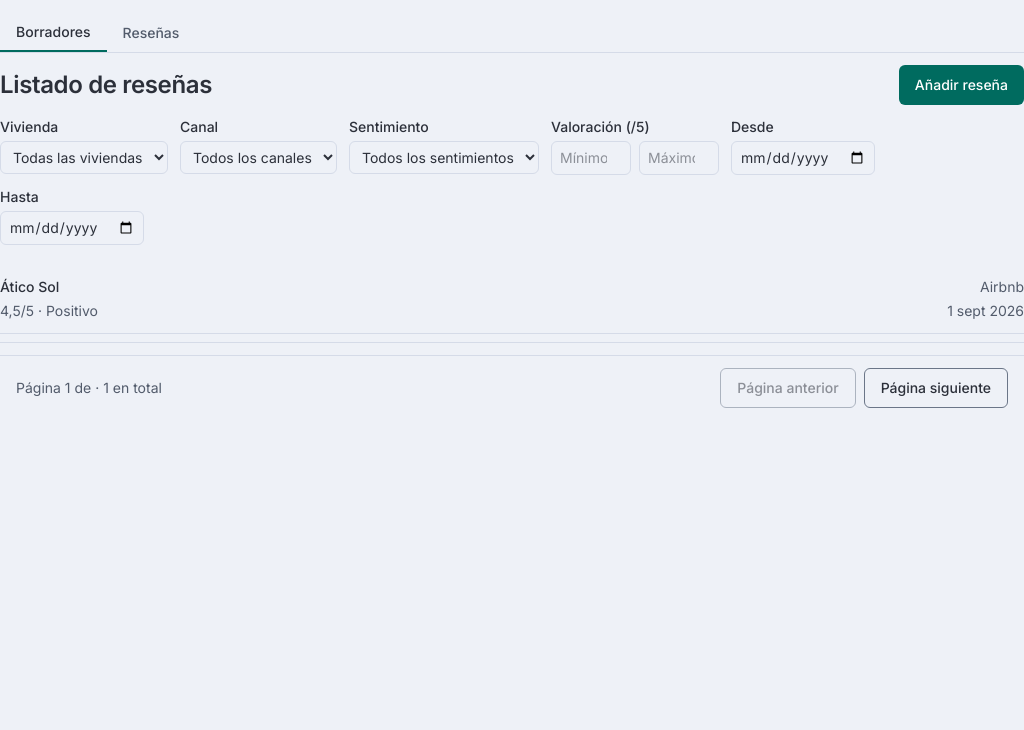
it: ReviewsView — role gates decisions but not Edit (D5, D15) › the manager sees Edit on a DRAFTED row's detail but no Approve/Ignore row buttons
The image size is (1024, 730).
Click the button "Ático Sol Airbnb 4,5/5 · Positivo 1 sept 2026" at (30, 286), box [0,265,1023,334]
(page scrolled)
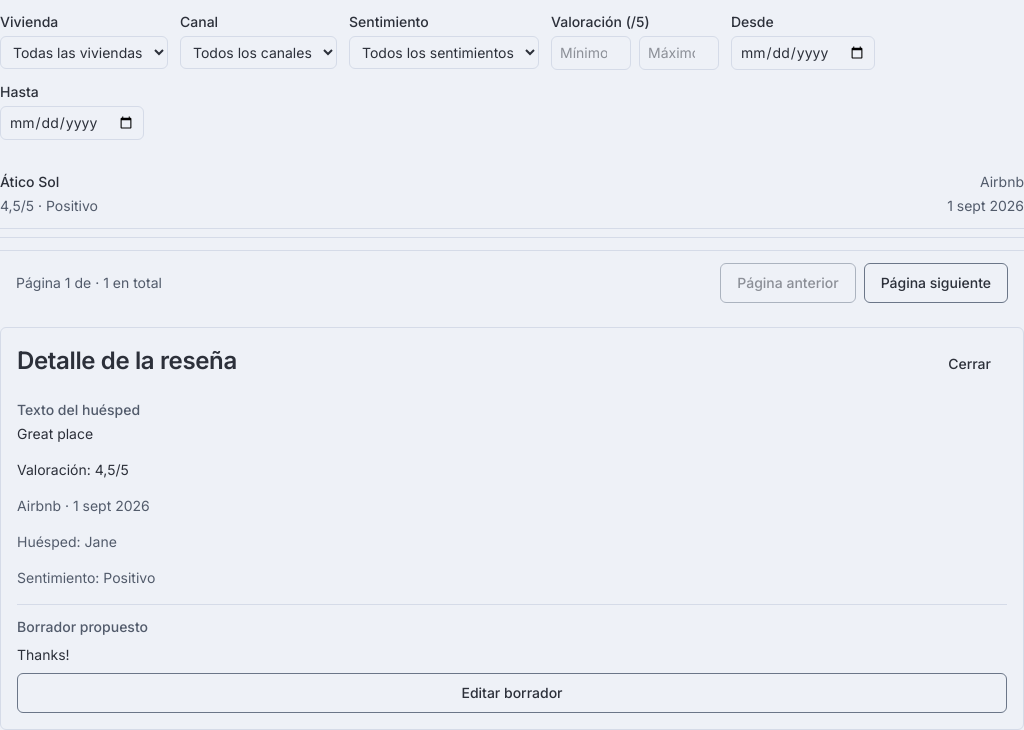
Result: the button "Editar borrador" is shown at [17,673,1007,713]
